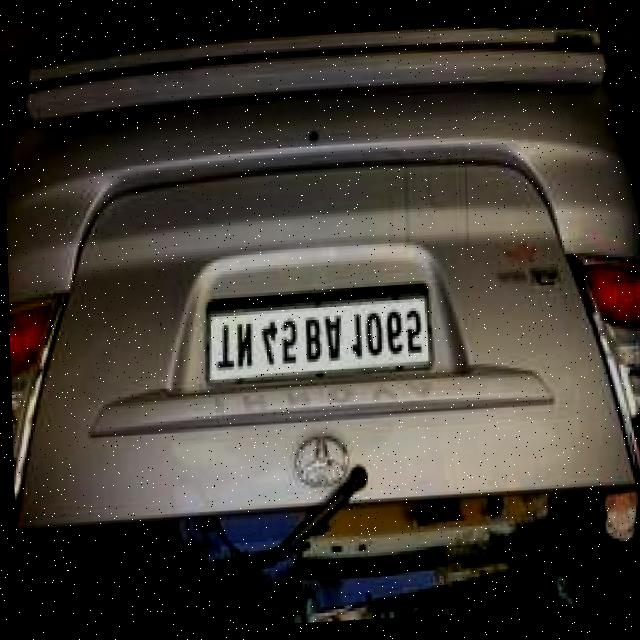plate: (205, 283, 431, 388)
